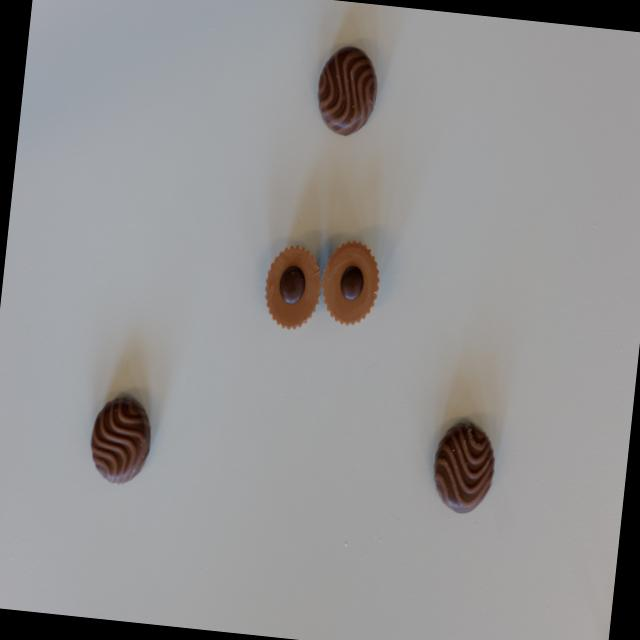Noblesse: (260, 240, 328, 332), (316, 238, 382, 326)
Noir_authentique: (428, 418, 498, 516), (86, 392, 154, 489), (313, 43, 380, 138)
